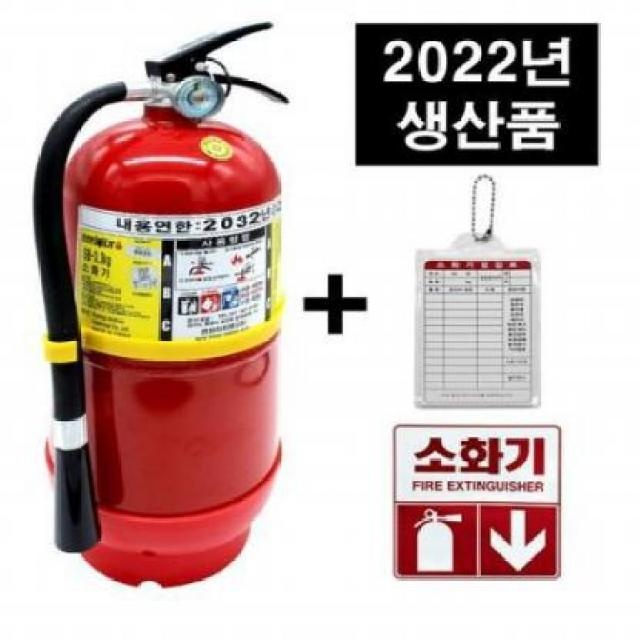fire extinguisher: (30, 20, 290, 589)
